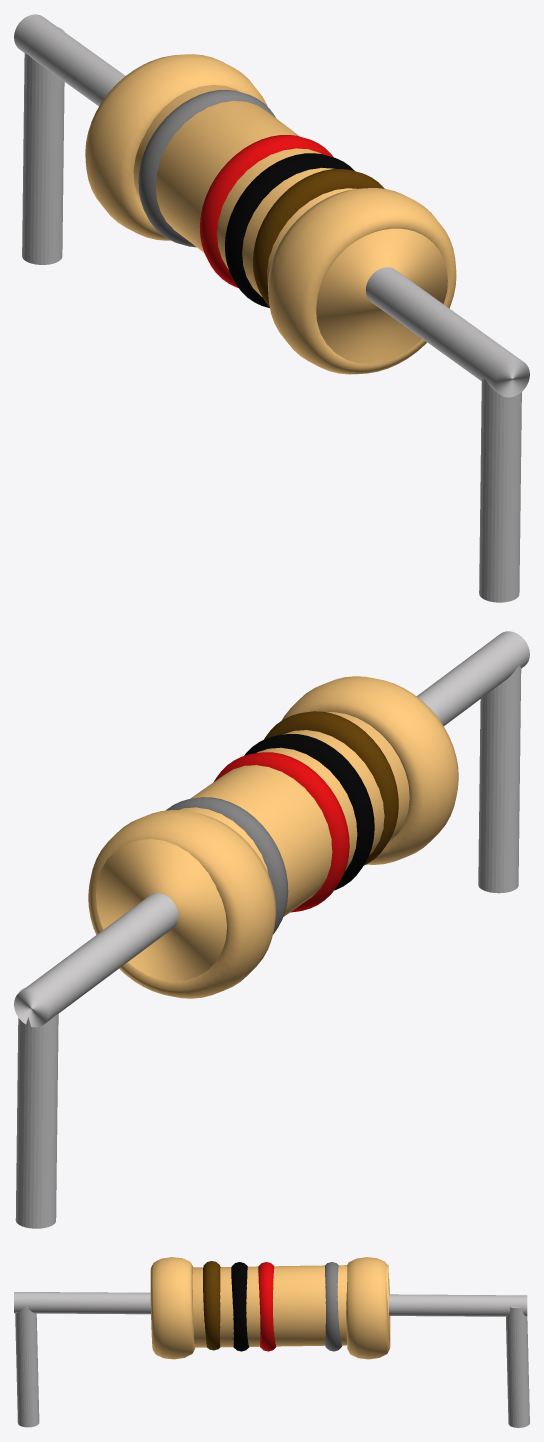
Rendered from Resistor 1000.fbx.
3 renders of one model, top to bottom at view 1: azimuth 30°, elevation 25°; view 2: azimuth 150°, elevation 25°; view 3: azimuth 270°, elevation 25°, orthographic. The views are drawn at different scales.
Parts seen in each view (by area): view 1: Torus.001, Cylinder.001, Cylinder.002, Cylinder.004; view 2: Torus.001, Cylinder.001, Cylinder.002, Cylinder.004; view 3: Torus.001, Cylinder.001, Cylinder.004, Cylinder.002.
Boxes of the visible parts, x1,y1,x2,y2 form: Torus.001: (85, 54, 456, 374); Cylinder.001: (14, 14, 529, 397); Cylinder.002: (479, 378, 521, 602); Cylinder.004: (22, 27, 64, 264); Torus.001: (88, 676, 458, 998); Cylinder.001: (14, 631, 529, 1027); Cylinder.002: (478, 666, 521, 893); Cylinder.004: (15, 988, 58, 1228); Torus.001: (150, 1257, 390, 1359); Cylinder.001: (14, 1292, 527, 1316); Cylinder.004: (506, 1307, 529, 1427); Cylinder.002: (15, 1307, 39, 1427).
Size of the model in its own units: 147 by 247 by 719.
